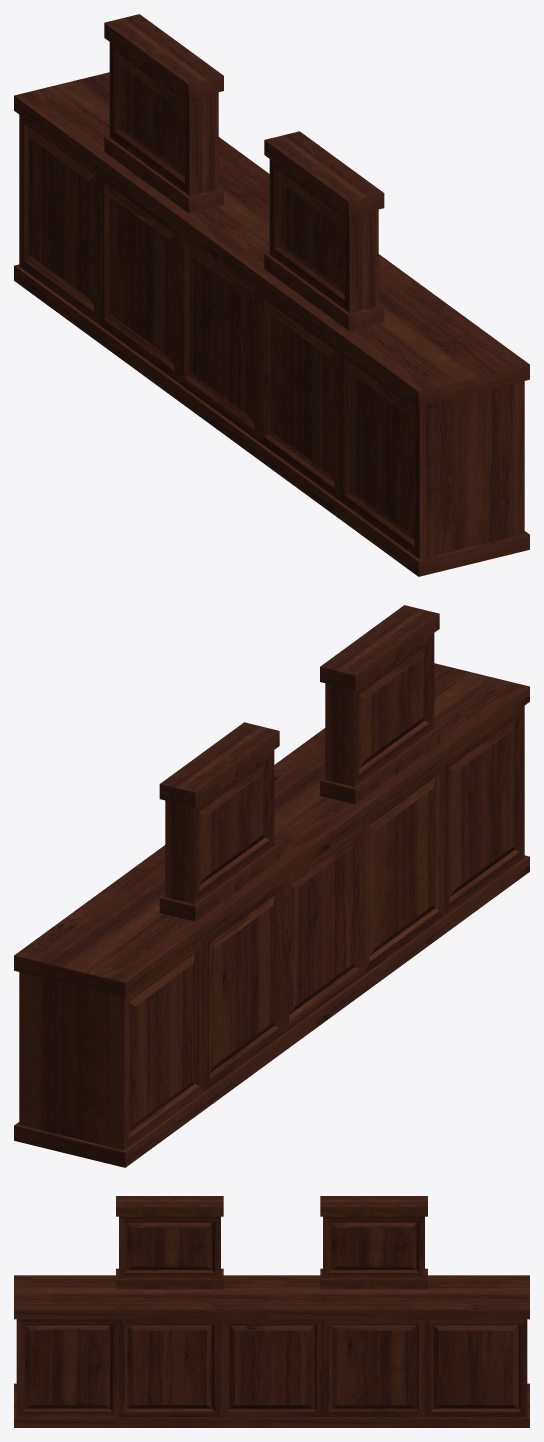
File: Counter.fbx
3 views of the same model, one above another, from view 1: azimuth 30°, elevation 25°; view 2: azimuth 150°, elevation 25°; view 3: azimuth 270°, elevation 25° (orthographic). The views are drawn at different scales.
Visible parts, largest first — view 1: Counter; view 2: Counter; view 3: Counter.
Part boxes in pixels (box(x1,y1,x2,y2)): Counter: box(14, 14, 529, 576); Counter: box(14, 605, 529, 1167); Counter: box(14, 1196, 529, 1427).
Bounding box in the file's own units: 4.68 × 12.62 × 29.45.
1 material, 1 textured.
